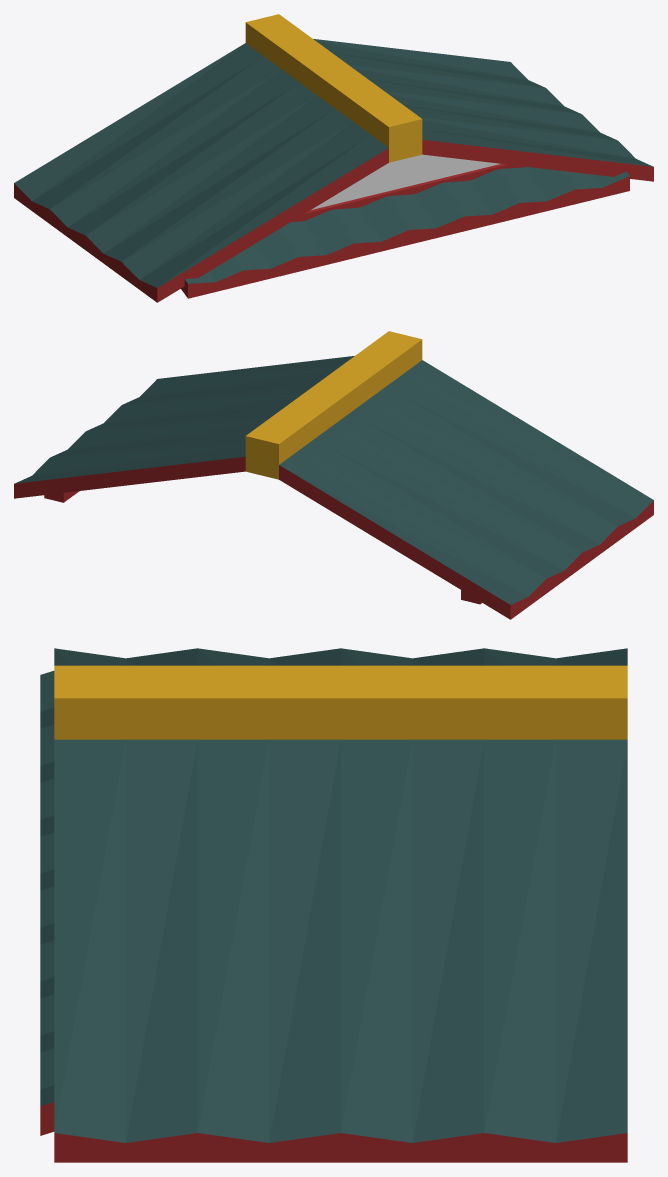
File: Asian_Prop_Building_Modular_Roof_End_Double_01.FBX
The picture shows the model from 3 angles, top to bottom: view 1: azimuth 30°, elevation 25°; view 2: azimuth 150°, elevation 25°; view 3: azimuth 270°, elevation 25°; orthographic projection. The views are drawn at different scales.
Parts seen in each view (by area): view 1: Asian_Prop_Building_Modular_Roof_End_Double_01; view 2: Asian_Prop_Building_Modular_Roof_End_Double_01; view 3: Asian_Prop_Building_Modular_Roof_End_Double_01.
Part boxes in pixels (x1=…): Asian_Prop_Building_Modular_Roof_End_Double_01: x1=14, y1=14, x2=653, y2=302; Asian_Prop_Building_Modular_Roof_End_Double_01: x1=14, y1=331, x2=653, y2=619; Asian_Prop_Building_Modular_Roof_End_Double_01: x1=40, y1=648, x2=627, y2=1162.
Size of the model in its own units: 12918 by 2963 by 6615.
